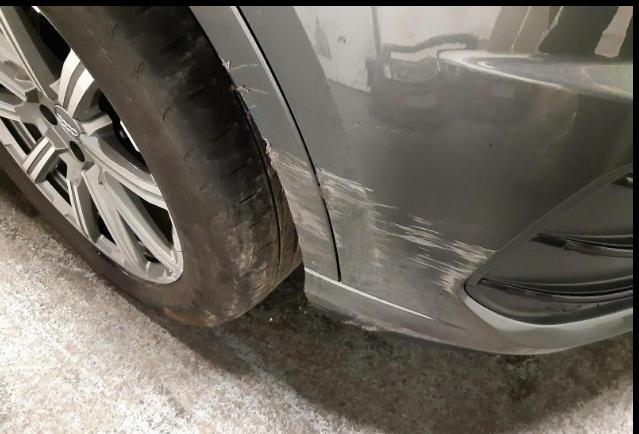Front-bumper: (186, 3, 634, 357)
Front-wheel: (0, 1, 302, 329)
